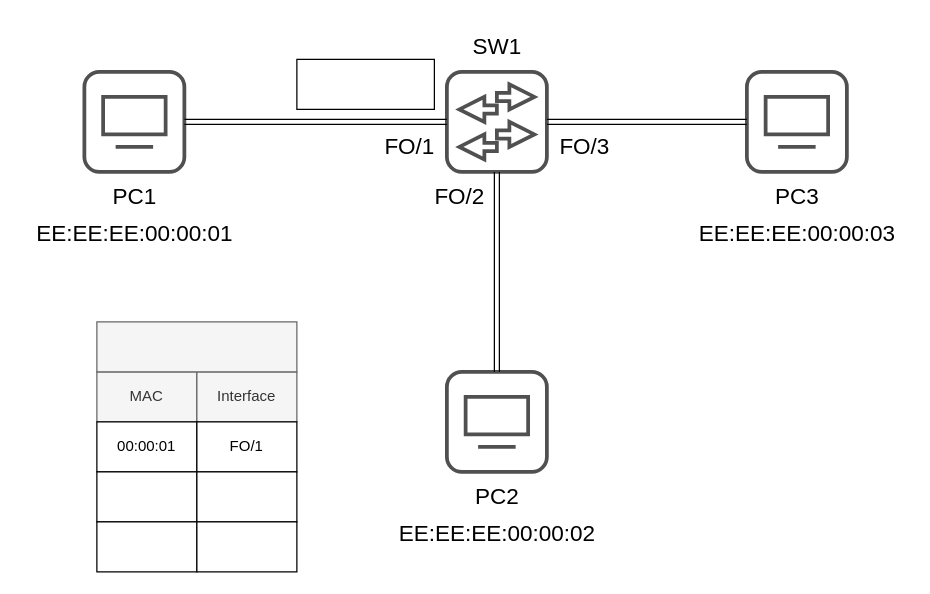
The diagram is 930 pixels wide and 594 high, and some of its shapes have lost their labels. Here are the shapes that lost their labels. From the top down, the centre of each, then its label:
At point (365, 83): "Src: 00:00:01 Dest: 00:00:02".
At point (196, 346): "MAC Address Table".
